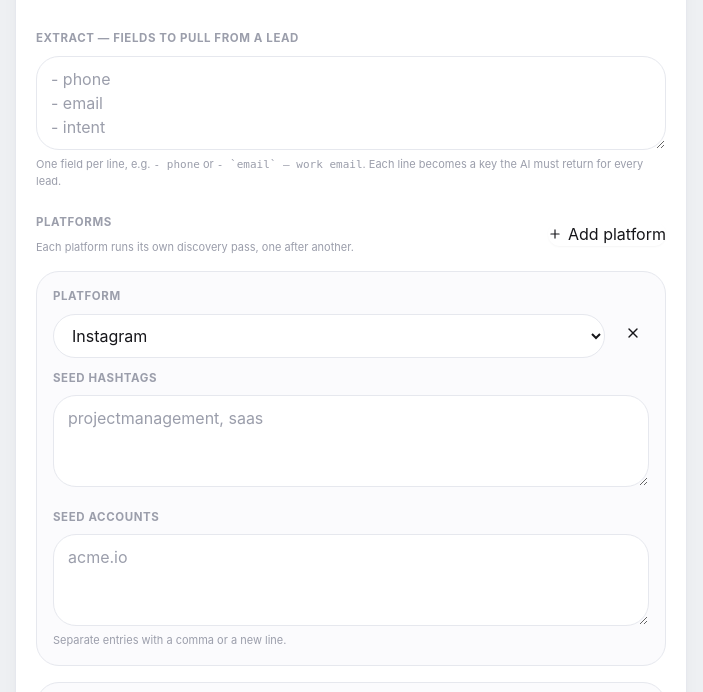
CampaignForm — multi-platform UI (Phase 6) › removing an EMPTY channel does not prompt a confirm dialog
This screenshot has width=703, height=692.
(page scrolled)
Click the button named "Remove Instagram channel": coordinates (633, 333) [617,317,649,349]
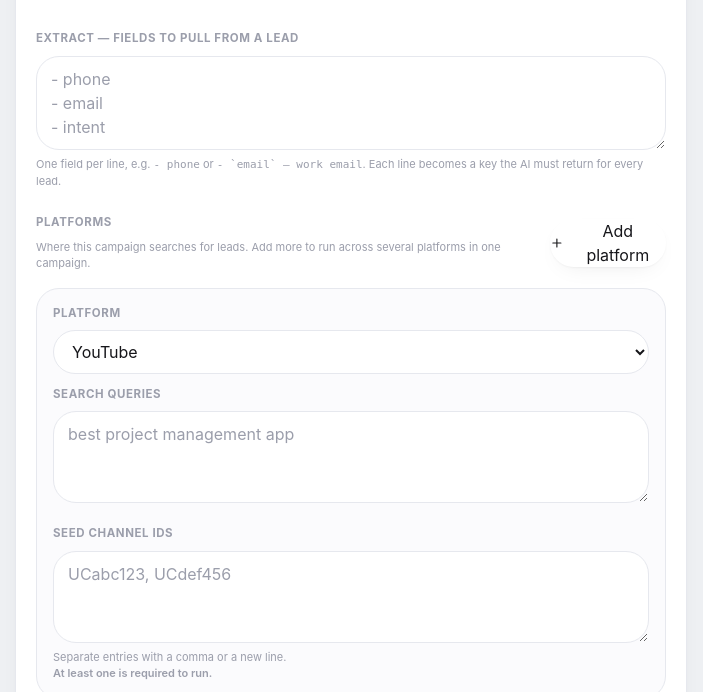
Check: the number of dropdowns labelled "Platform" is 1, box [53,330,649,374]
